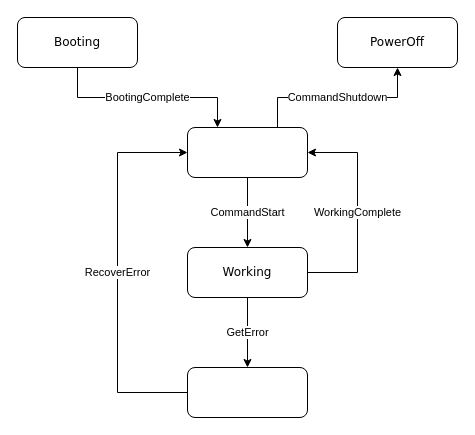
Some shapes in this 475 by 435 pixel diagram are drawn without their labels. The centre of each missing label's shape, as x and y in pixels:
"Error" belongs at pixel 247 392.
"Ready" belongs at pixel 247 152.
